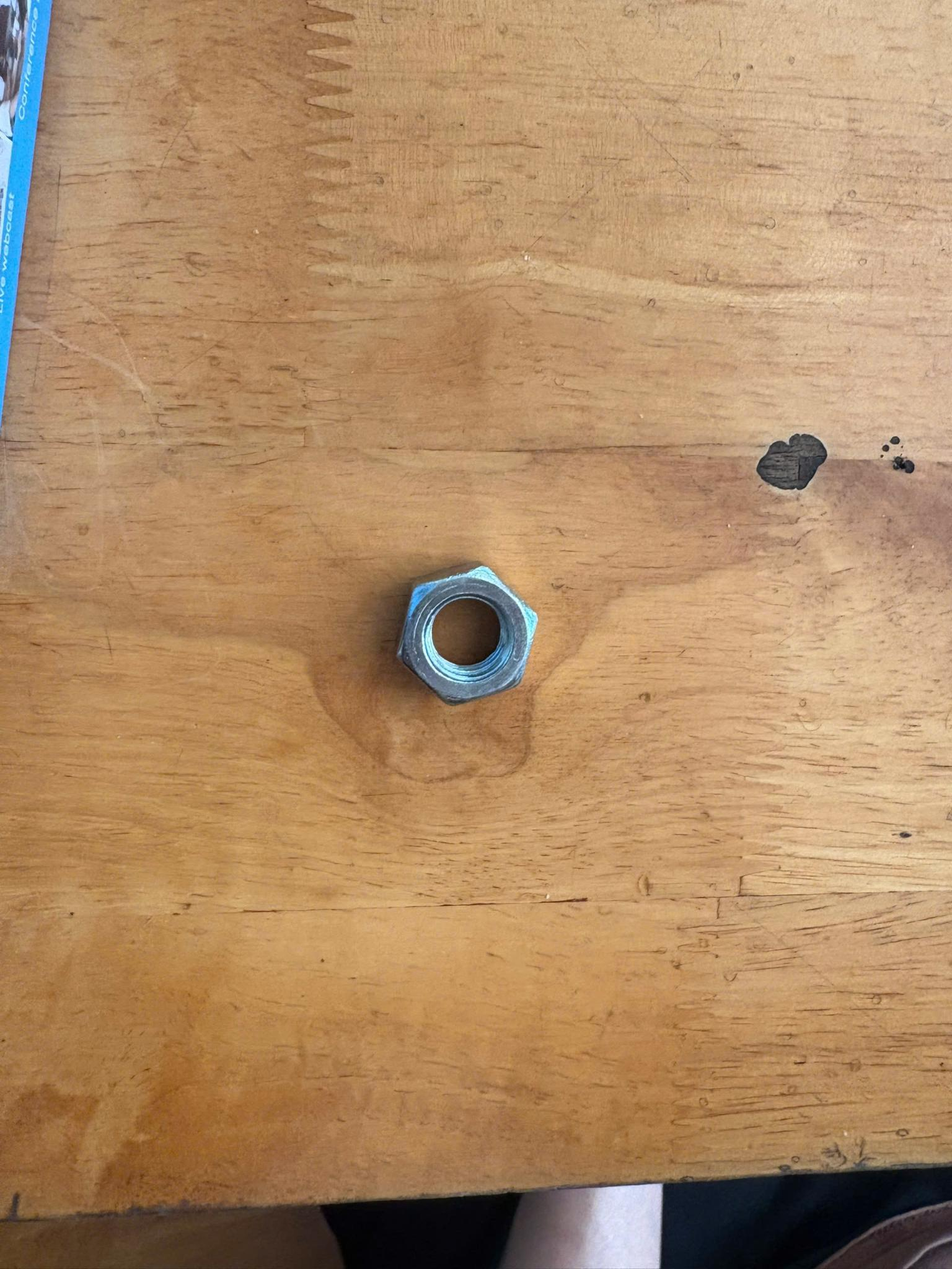nut: (387, 546, 553, 732)
